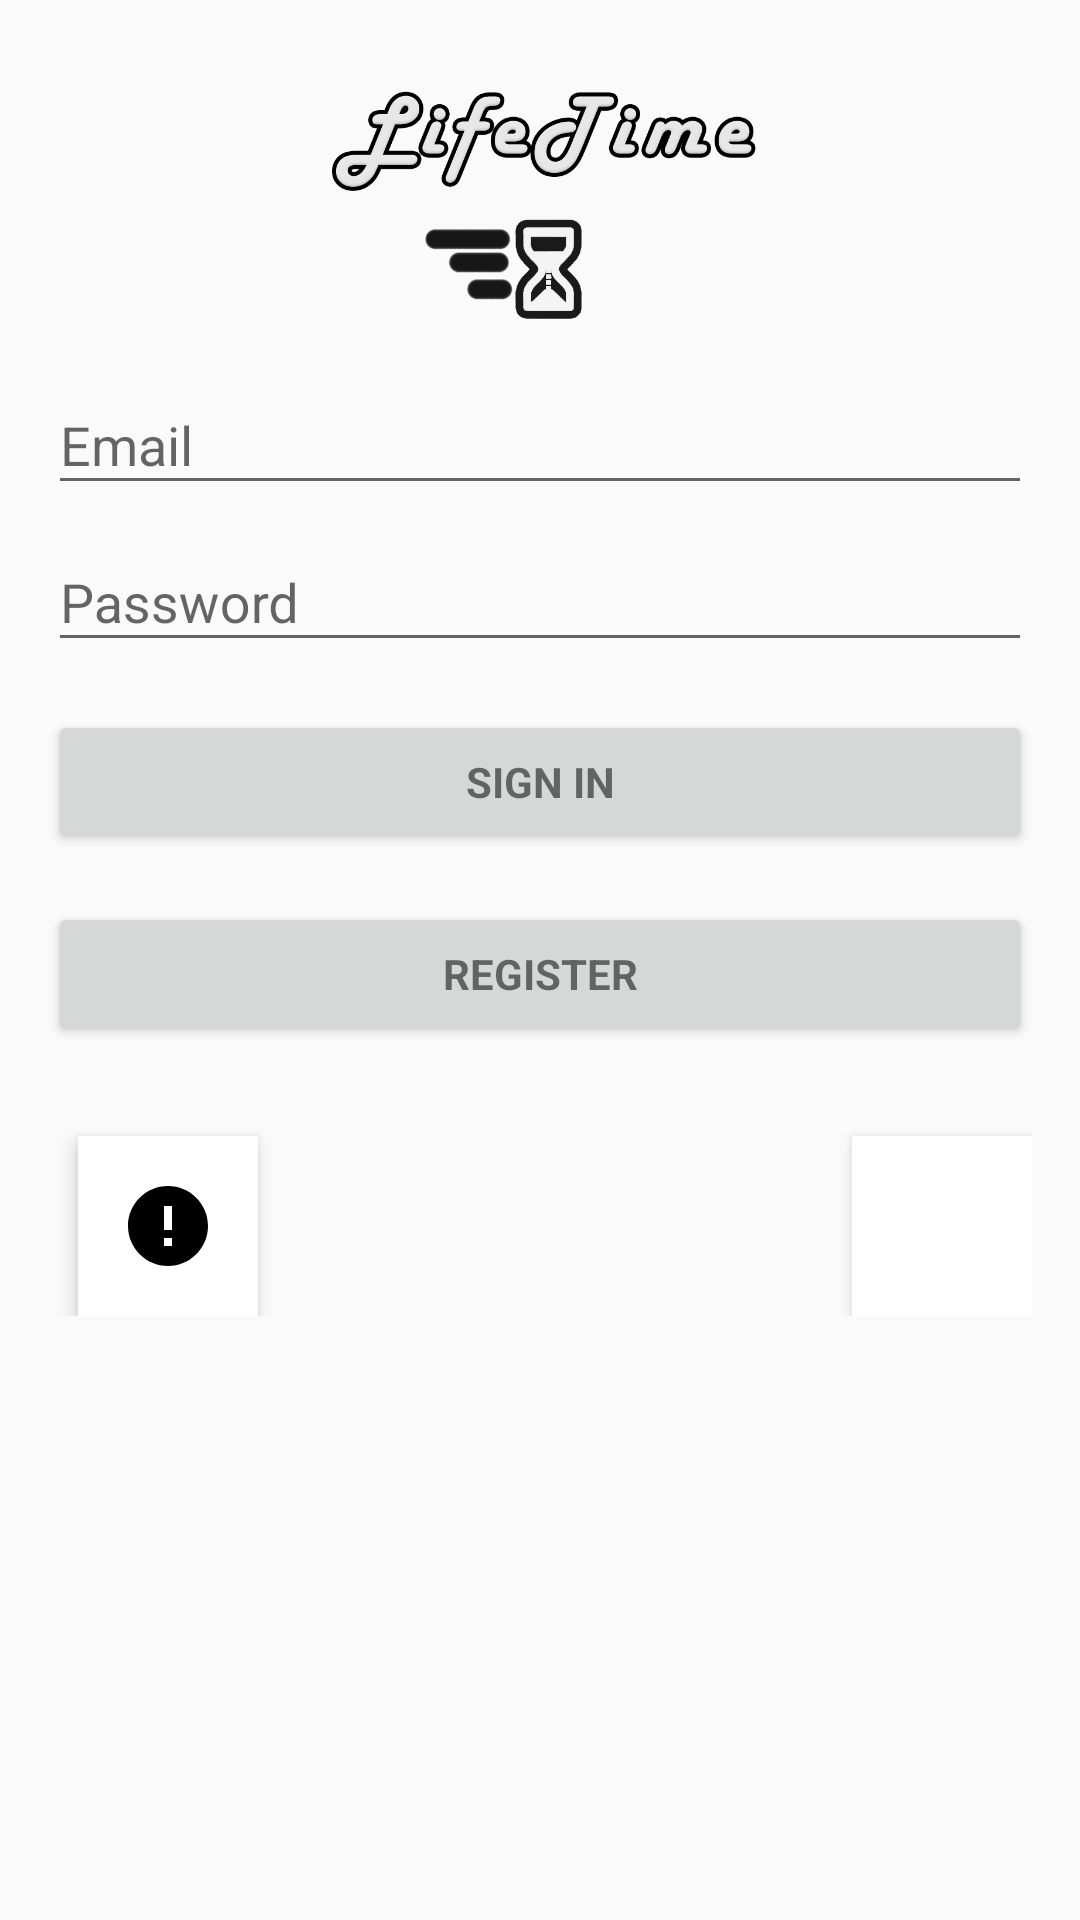

Screen size 1080w x 1920h. Icon name, then its center in pixels as [x,y]:
error: [168,1226]
